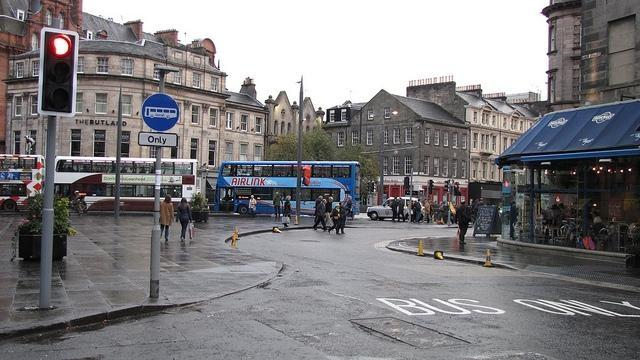bus: (214, 161, 361, 217), (54, 152, 196, 208), (1, 154, 47, 212)
car: (366, 197, 423, 222)
